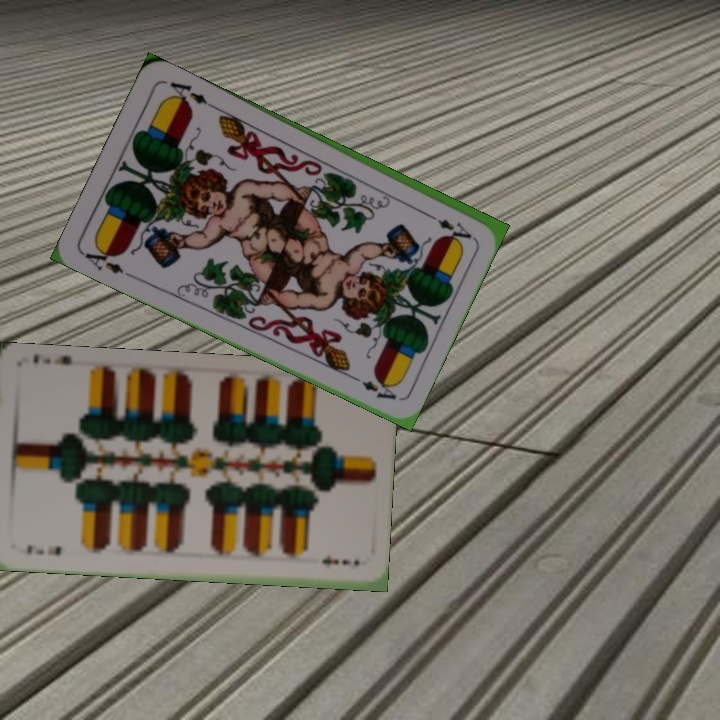E7: (21, 540, 64, 558)
EA: (80, 241, 135, 281), (420, 208, 474, 241)
